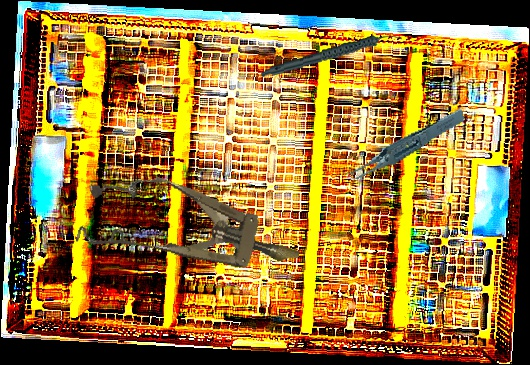Handpiece: (259, 33, 404, 77)
Speculum: (75, 161, 309, 297)
Tissue Forceps: (333, 107, 473, 183)
